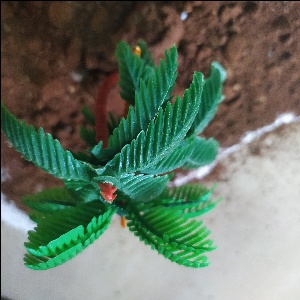plant: (1, 38, 231, 273)
